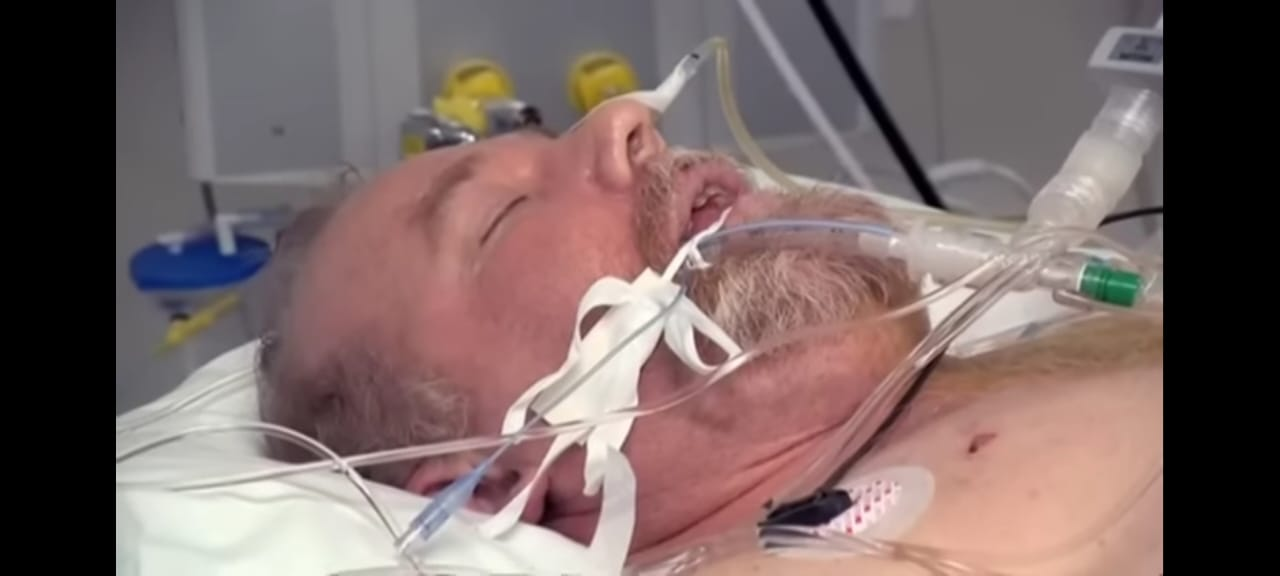patient: (254, 97, 1160, 573)
